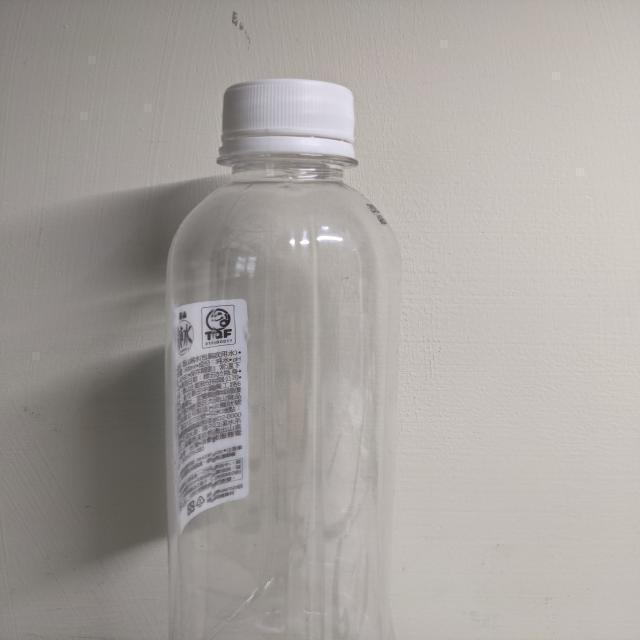Plastic: (168, 78, 396, 638)
